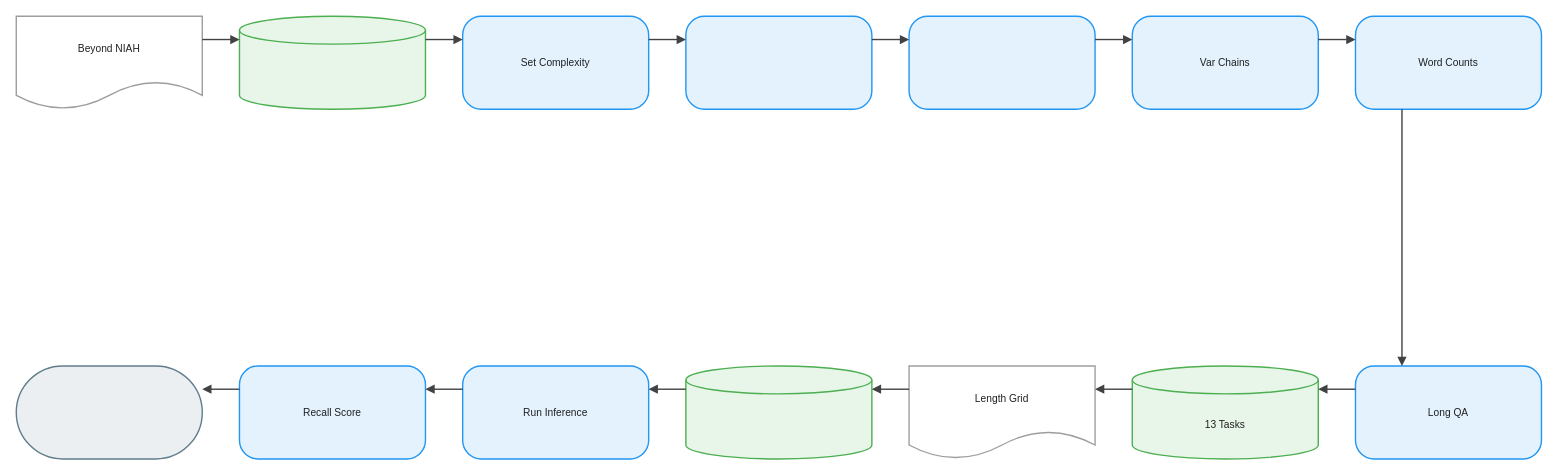
The diagram is 1559 pixels wide and 476 high, and some of its shapes have lost their labels. The shapes that lost their labels are listed below. From the top down, each one's box as (x1, y1, x2, y2) in pixels, then its label:
(238, 15, 426, 110): Four Tasks
(685, 15, 872, 110): NIAH Variants
(908, 15, 1095, 110): Needle Types
(15, 365, 203, 459): Real Context
(685, 365, 872, 459): 500 per Length
